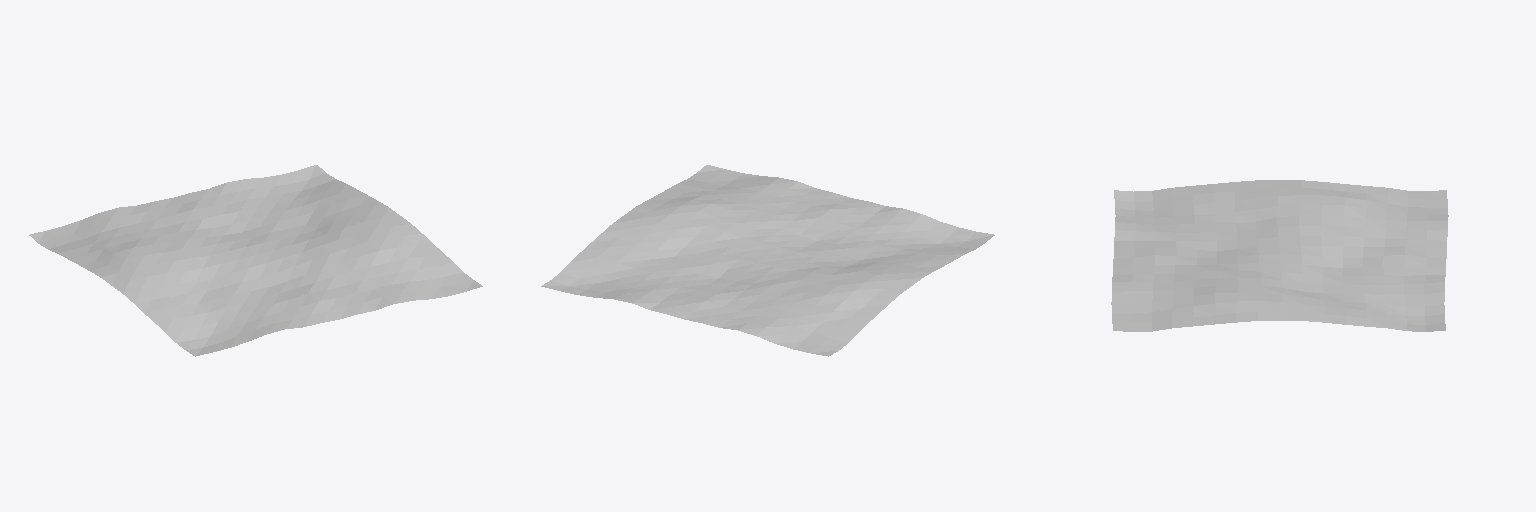
The model's file is water_000236.obj.
The picture shows the model from 3 angles: view 1: azimuth 30°, elevation 25°; view 2: azimuth 150°, elevation 25°; view 3: azimuth 270°, elevation 25°; orthographic projection.
Visible parts, largest first — view 1: Plan.003_Plan.001; view 2: Plan.003_Plan.001; view 3: Plan.003_Plan.001.
Part boxes in pixels (x1,y1,x2,y2): Plan.003_Plan.001: (29,165,482,356); Plan.003_Plan.001: (541,165,994,356); Plan.003_Plan.001: (1111,180,1448,331).
Size of the model in its own units: 60487 by 3135 by 61070.